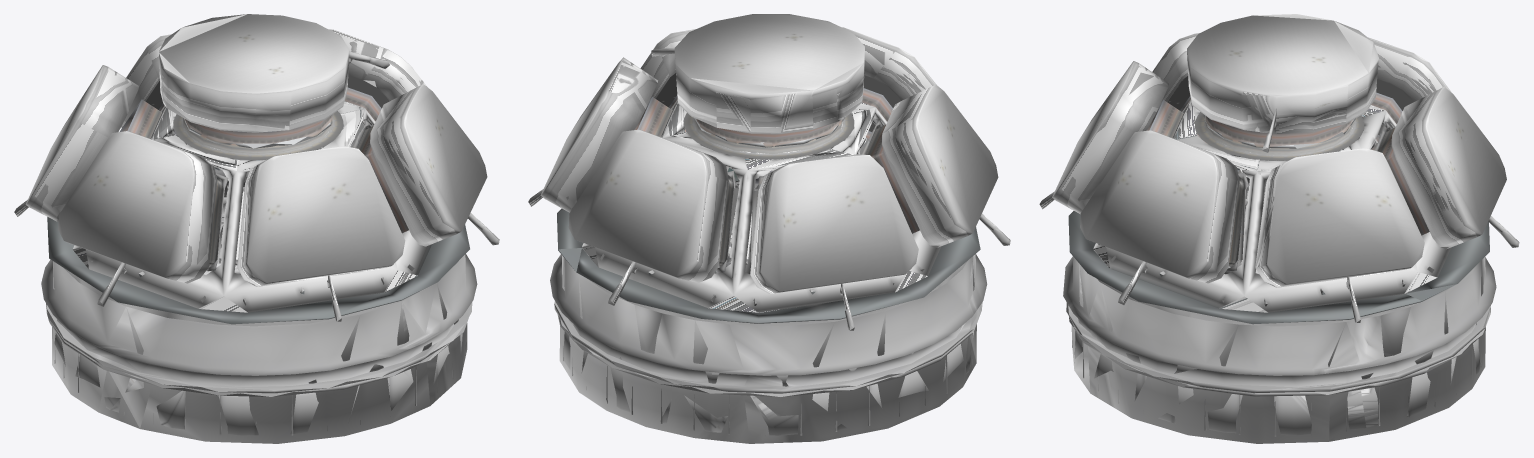
The model's file is cupola.dae.
3 views of the same model, side by side, from view 1: azimuth 30°, elevation 25°; view 2: azimuth 150°, elevation 25°; view 3: azimuth 270°, elevation 25° (orthographic).
Visible parts, largest first — view 1: Cupola_Int_Cabin; view 2: Cupola_Int_Cabin; view 3: Cupola_Int_Cabin.
Boxes of the visible parts, x1=… form: Cupola_Int_Cabin: x1=14, y1=14, x2=499, y2=443; Cupola_Int_Cabin: x1=528, y1=14, x2=1010, y2=443; Cupola_Int_Cabin: x1=1039, y1=14, x2=1519, y2=443.
Bounding box in the file's own units: 2.2 × 2.28 × 1.59.
4 materials, 3 textured.
